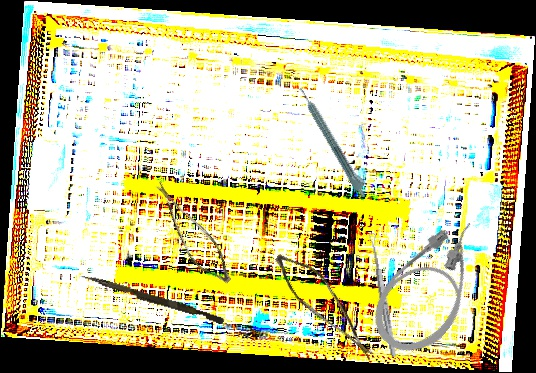Cannula: (358, 206, 509, 368)
Handpiece: (296, 82, 373, 200)
Micro Scissor: (259, 247, 395, 361), (133, 179, 248, 290)
Pusher: (79, 273, 226, 325)
Surgical Spoon: (368, 232, 398, 358)
